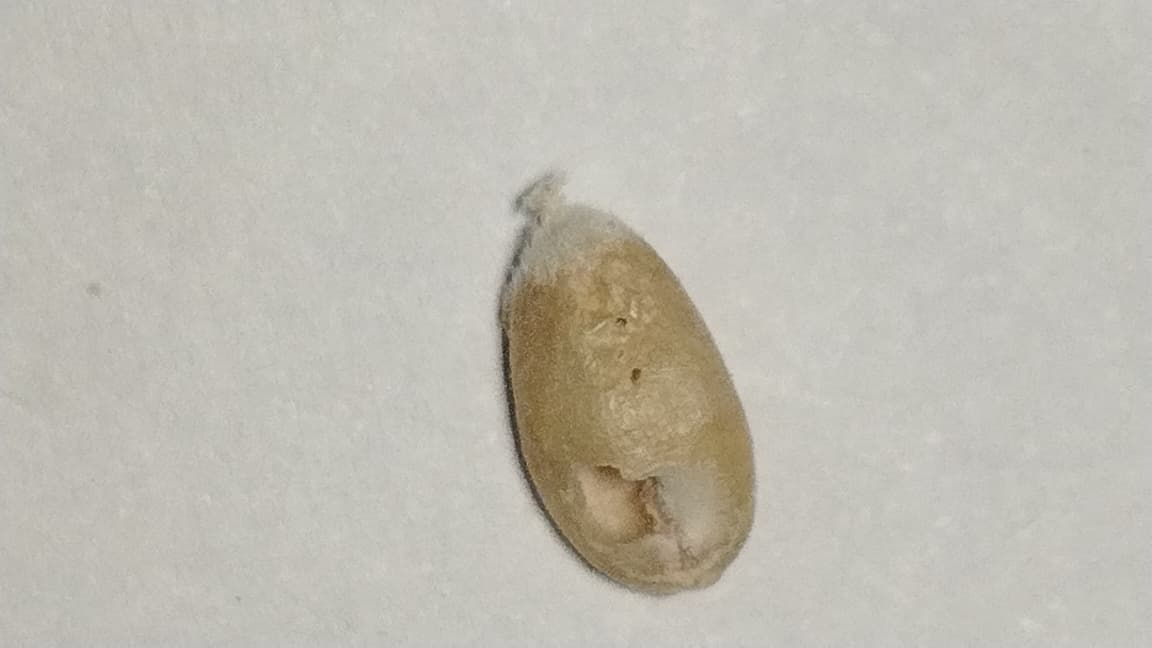damage: (498, 223, 759, 594)
insectdamage: (564, 452, 739, 568)
